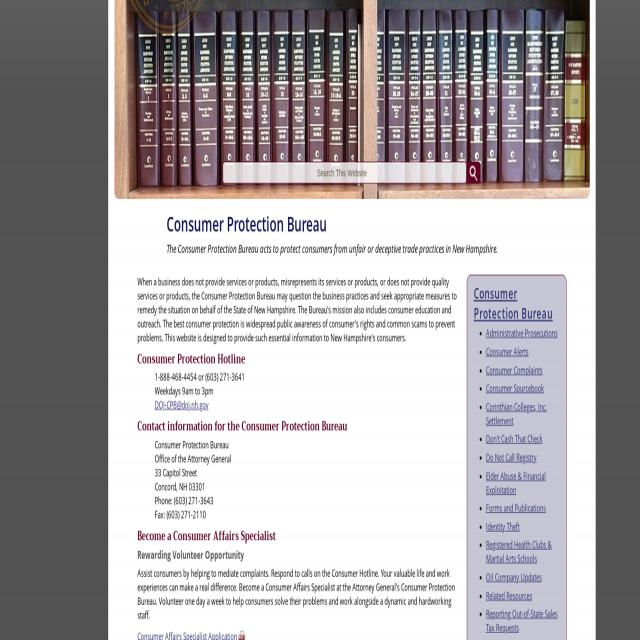button: (466, 162, 481, 183), (239, 629, 245, 640)
field: (223, 162, 467, 183)
